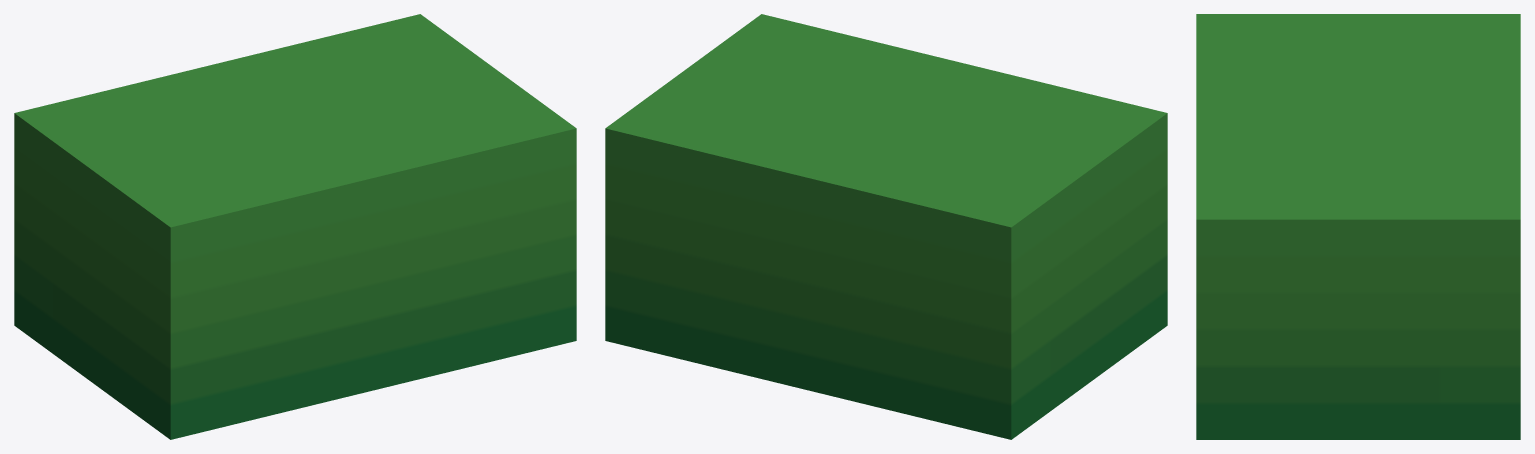
File: Spine029.fbx
3 views of the same model, side by side, from view 1: azimuth 30°, elevation 25°; view 2: azimuth 150°, elevation 25°; view 3: azimuth 270°, elevation 25° (orthographic). The views are drawn at different scales.
Visible parts, largest first — view 1: Spine029; view 2: Spine029; view 3: Spine029.
Part boxes in pixels (left/top/right/bottom): Spine029: left=14, top=14, right=576, bottom=439; Spine029: left=605, top=14, right=1167, bottom=439; Spine029: left=1196, top=14, right=1520, bottom=439.
Size of the model in its own units: 12 by 6 by 8.
